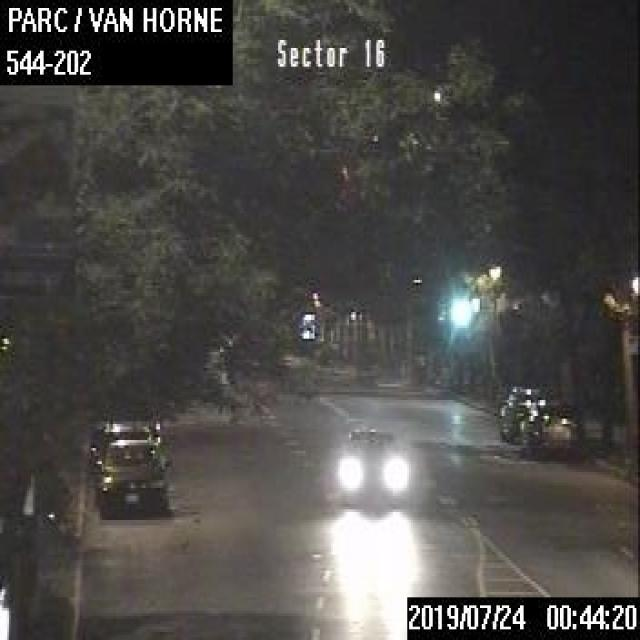vehicle: (336, 421, 406, 507), (89, 412, 161, 494), (98, 436, 167, 514), (519, 397, 580, 456), (498, 381, 550, 443)
